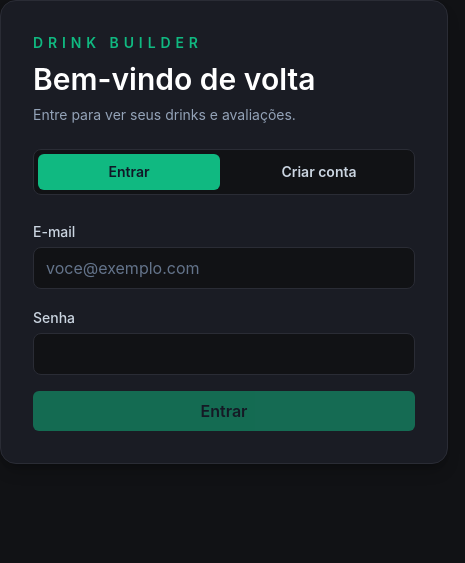
Scenario: AuthPage › servidor fora do ar mostra mensagem de conexão
Type "eu@exemplo.com" into the field labelled "E-mail" at [224, 268], box [33, 247, 415, 289]
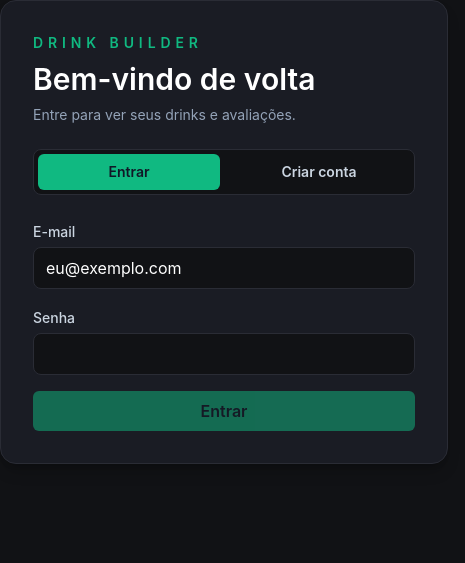
Type "Senha#123" into the password field labelled "Senha" at [224, 354], box [33, 333, 415, 375]
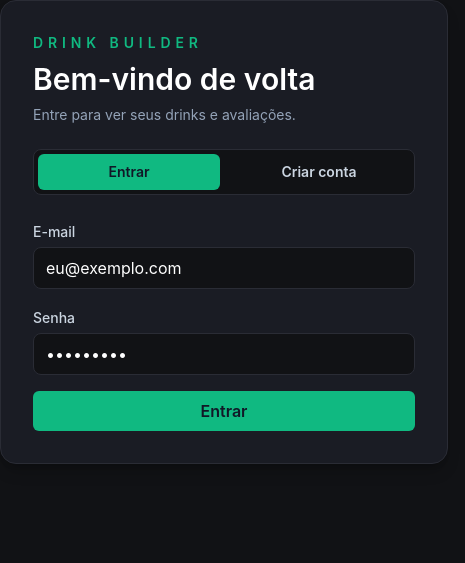
Click the button "Entrar" at [224, 411], box [33, 391, 415, 431]
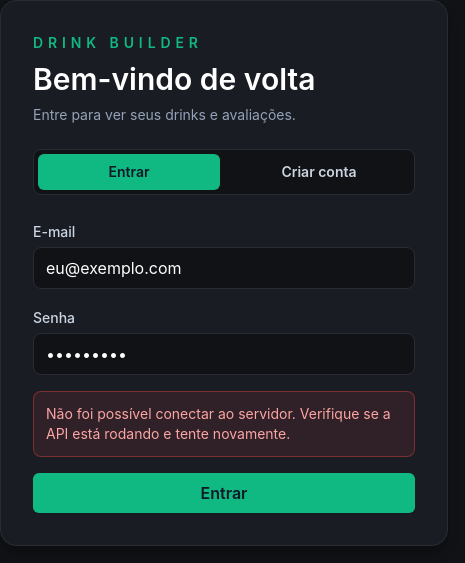
Expected: the list item "Não foi possível conectar ao servidor" is shown, [46, 405, 391, 442]
